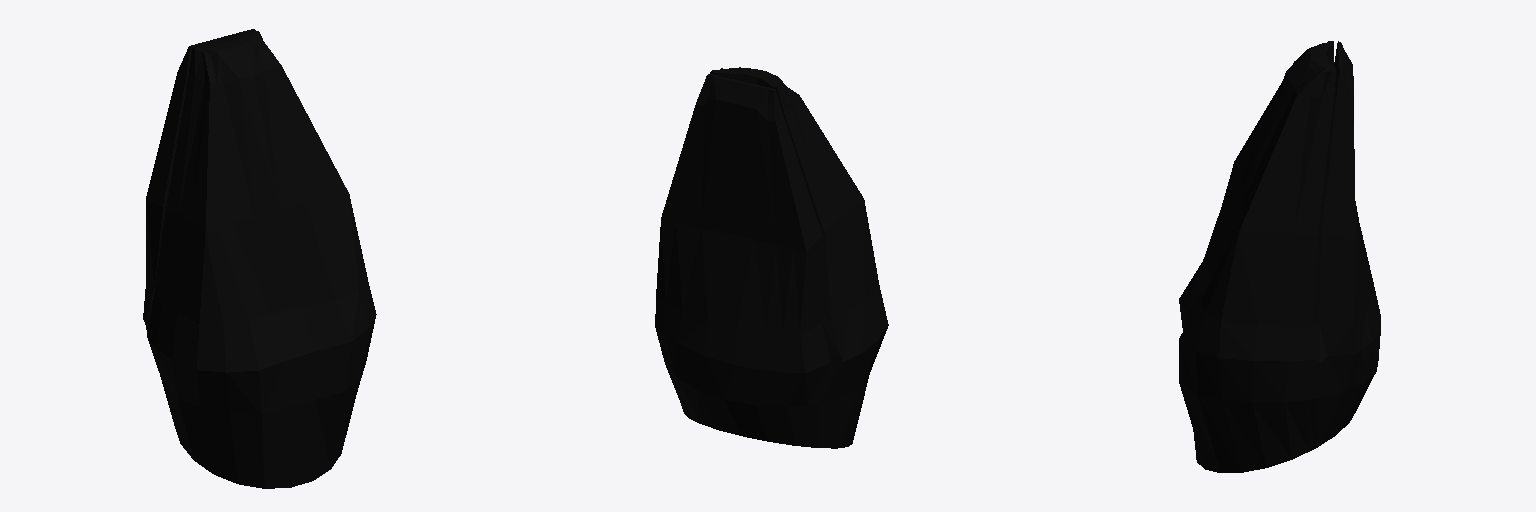
File: head.obj
3 views of the same model, side by side, from view 1: azimuth 30°, elevation 25°; view 2: azimuth 150°, elevation 25°; view 3: azimuth 270°, elevation 25° (orthographic).
Parts seen in each view (by area): view 1: pCube2_Untitled.001; view 2: pCube2_Untitled.001; view 3: pCube2_Untitled.001.
Boxes of the visible parts, x1=… form: pCube2_Untitled.001: x1=143, y1=29, x2=376, y2=488; pCube2_Untitled.001: x1=655, y1=67, x2=888, y2=448; pCube2_Untitled.001: x1=1179, y1=41, x2=1380, y2=472.
Size of the model in its own units: 0.1457 by 0.285 by 0.1309.